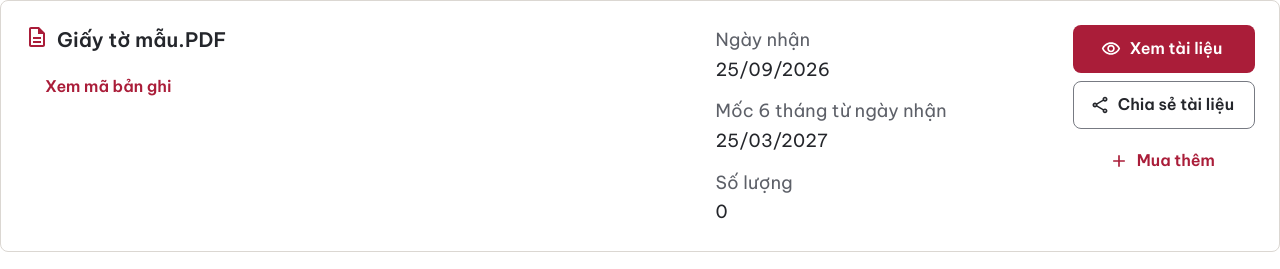
Test: one responsive card preserves name, amount, date calculation and mint identity
The image size is (1280, 269).
Expected: the heading "Giấy tờ mẫu.PDF" is shown, [57,25,226,55]
Expected: the text "25/09/2026" is shown, [716,58,830,81]
Click the button "Xem mã bản ghi": [108, 87] box [25,63,192,111]
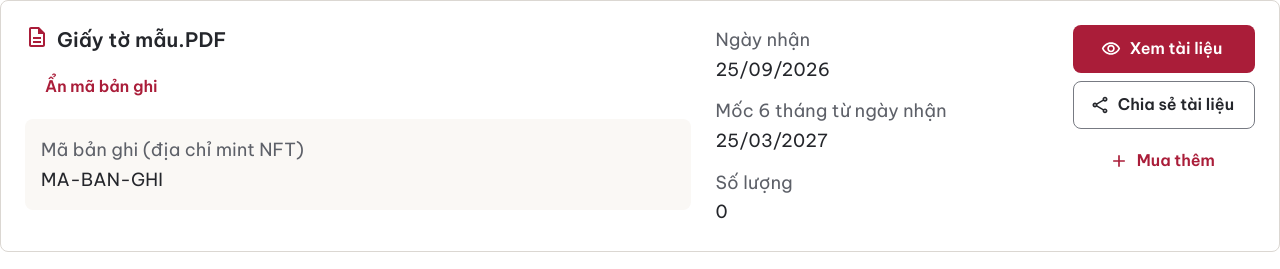
Now the text "MA-BAN-GHI" is shown, box [41,168,163,191]
Click the button "Ẩn mã bản ghi": [101, 87] box [25,63,178,111]
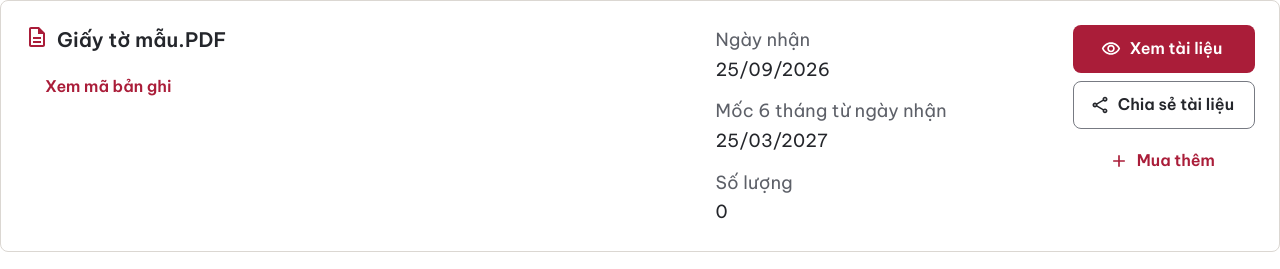
Now the text "MA-BAN-GHI" is gone
